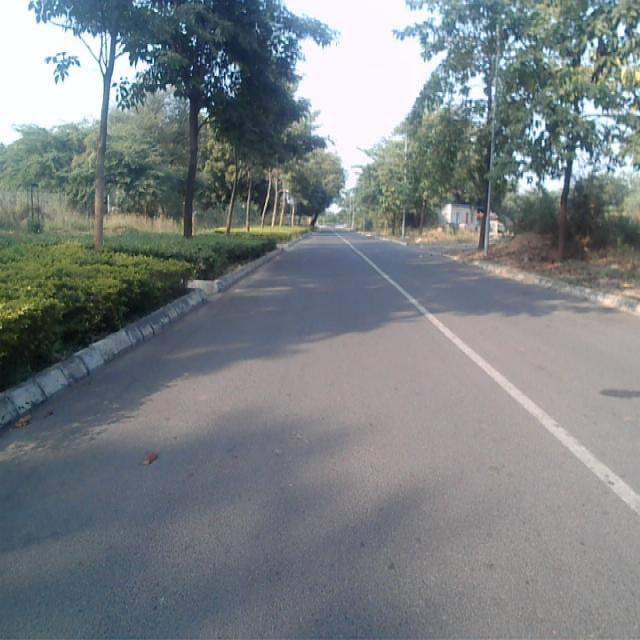lane: (0, 231, 640, 640)
